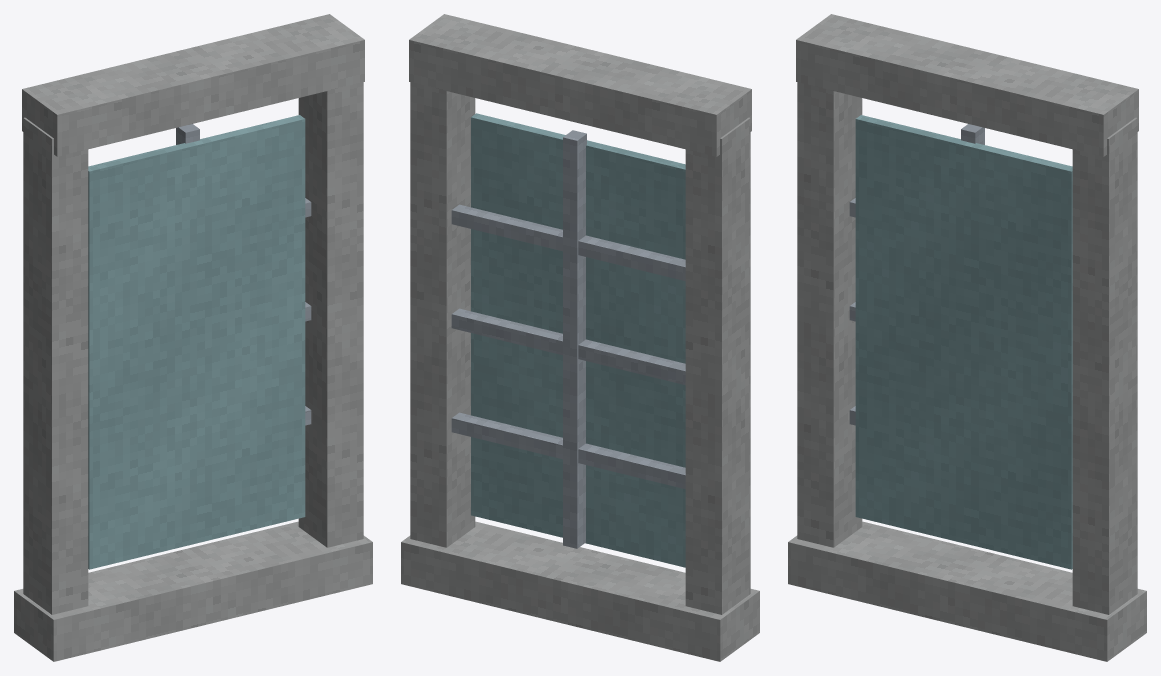
The model's file is level_blockout_monastery_stained_window.glb.
The picture shows the model from 3 angles, left to right: view 1: azimuth 30°, elevation 25°; view 2: azimuth 150°, elevation 25°; view 3: azimuth 330°, elevation 25°; orthographic projection.
Parts seen in each view (by area): view 1: level_blockout_monastery_stained_window; view 2: level_blockout_monastery_stained_window; view 3: level_blockout_monastery_stained_window.
Part boxes in pixels (x1,y1,x2,y2): level_blockout_monastery_stained_window: (14, 14, 372, 661); level_blockout_monastery_stained_window: (401, 14, 759, 661); level_blockout_monastery_stained_window: (788, 14, 1146, 661).
Bounding box in the file's own units: 1.67 × 2.72 × 0.36.
3 materials, 3 textured.
